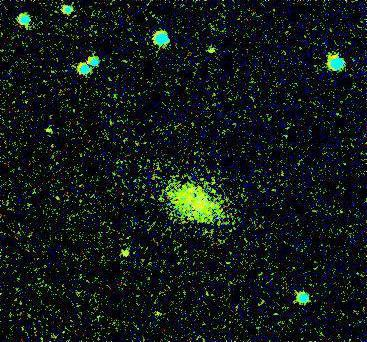star: (109, 238, 139, 268)
